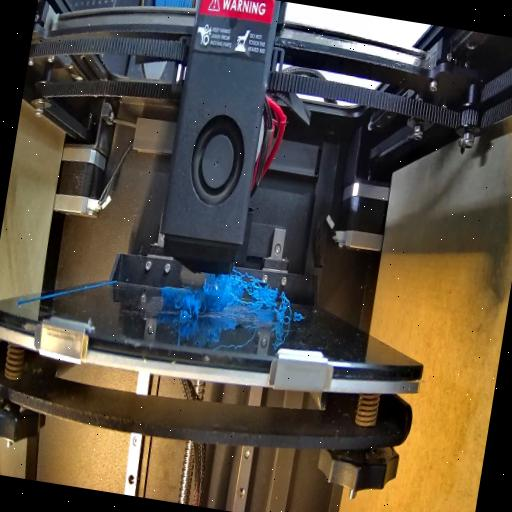spaghetti: (204, 266, 288, 316), (173, 280, 212, 322), (274, 294, 294, 326)
